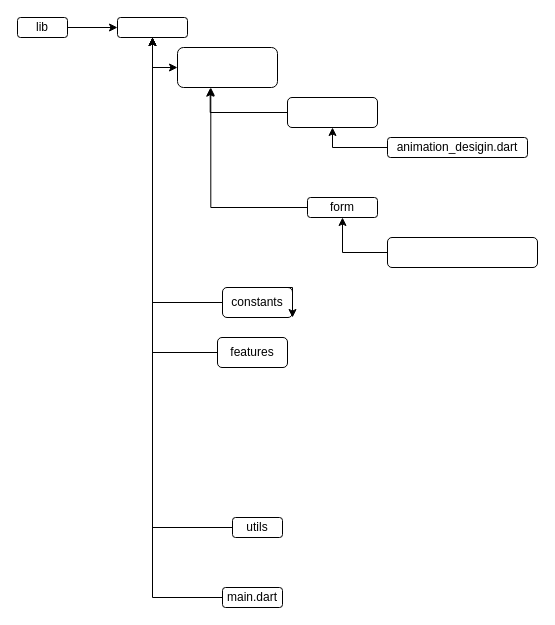
The diagram is 555 pixels wide and 625 high, and some of its shapes have lost their labels. Each missing label, with the box of its shape:
common_widget: (176, 46, 278, 88)
face_in_widget: (286, 96, 378, 128)
form_header_widget.dart: (386, 236, 538, 268)
src: (116, 16, 188, 38)
